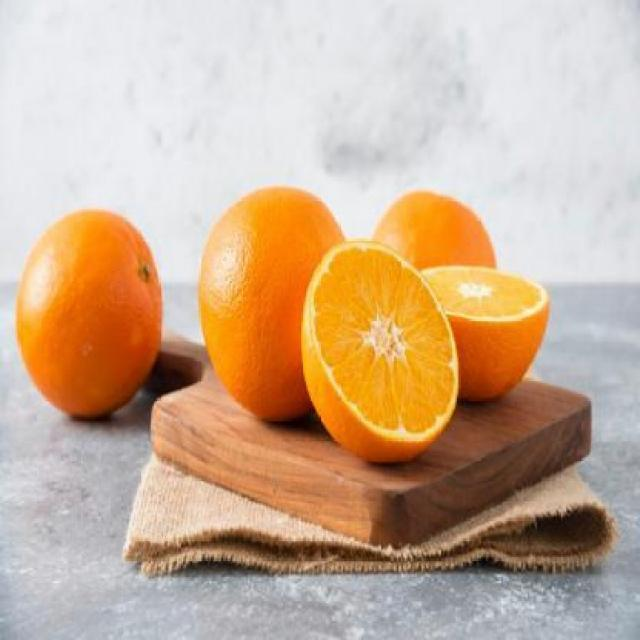Jeruk Sudah Matang: (199, 184, 352, 426), (16, 208, 162, 422), (360, 191, 498, 392)
